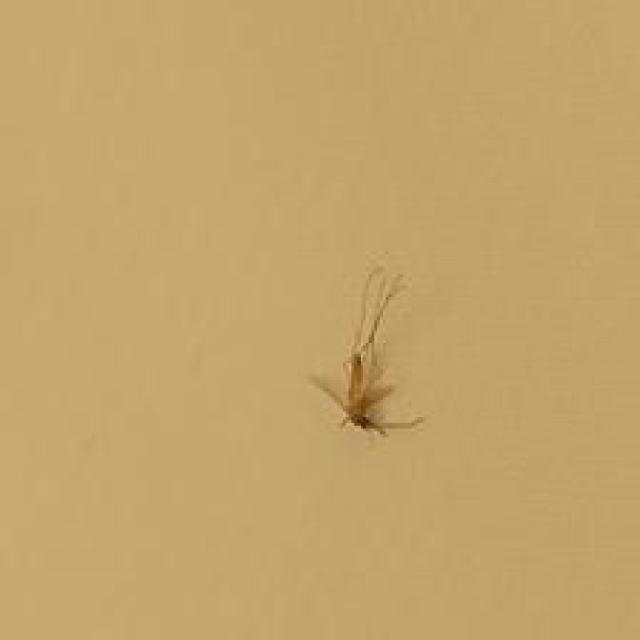Culex: (308, 264, 426, 439)
